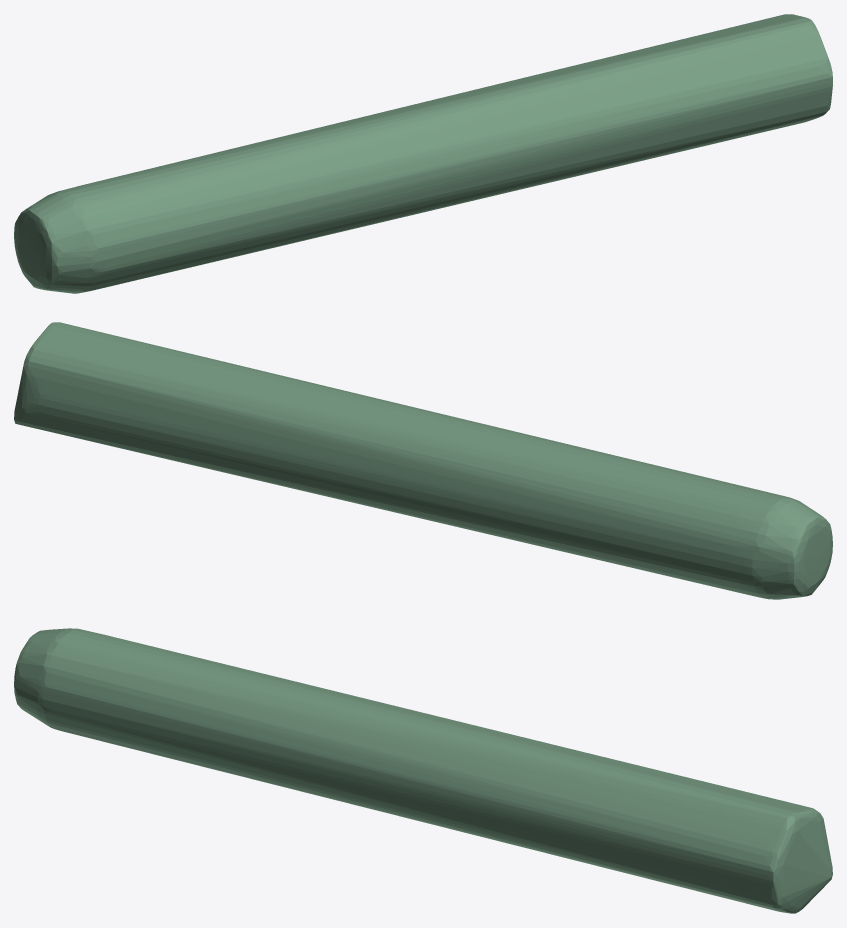
File: coacd_collision.obj
3 renders of one model, top to bottom at view 1: azimuth 30°, elevation 25°; view 2: azimuth 150°, elevation 25°; view 3: azimuth 330°, elevation 25°, orthographic.
Visible parts, largest first — view 1: geometry_0; view 2: geometry_0; view 3: geometry_0.
Boxes of the visible parts, x1,y1,x2,y2 form: geometry_0: (14,14,832,293); geometry_0: (14,322,832,599); geometry_0: (14,628,832,913).
Bounding box in the file's own units: 148 × 18.53 × 18.02.
